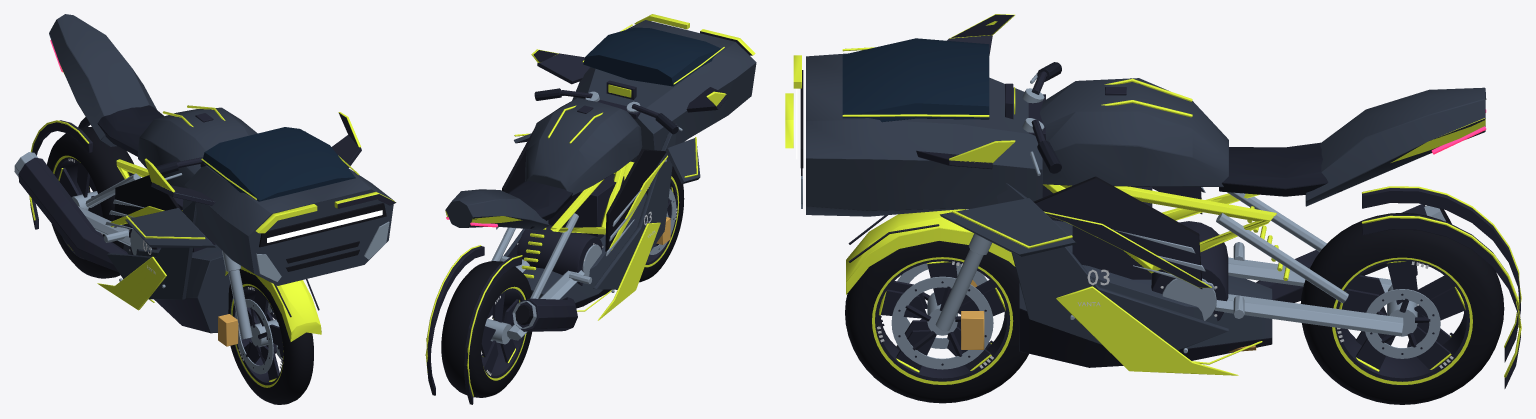
Rendered from oni.glb.
3 renders of one model, left to right at view 1: azimuth 30°, elevation 25°; view 2: azimuth 150°, elevation 25°; view 3: azimuth 270°, elevation 25°, orthographic. The views are drawn at different scales.
Parts seen in each view (by area): view 1: bike_body, wheel_f, wheel_r; view 2: bike_body, wheel_r, wheel_f; view 3: bike_body, wheel_r, wheel_f.
Boxes of the visible parts, x1,y1,x2,y2 form: bike_body: (14, 14, 396, 346); wheel_f: (228, 269, 313, 404); wheel_r: (47, 127, 133, 278); bike_body: (425, 14, 756, 404); wheel_r: (441, 261, 531, 397); wheel_f: (639, 166, 684, 282); bike_body: (785, 14, 1521, 388); wheel_r: (1300, 212, 1504, 404); wheel_f: (845, 241, 1028, 403).
Size of the model in its own units: 0.9198 by 1.12 by 2.21.
